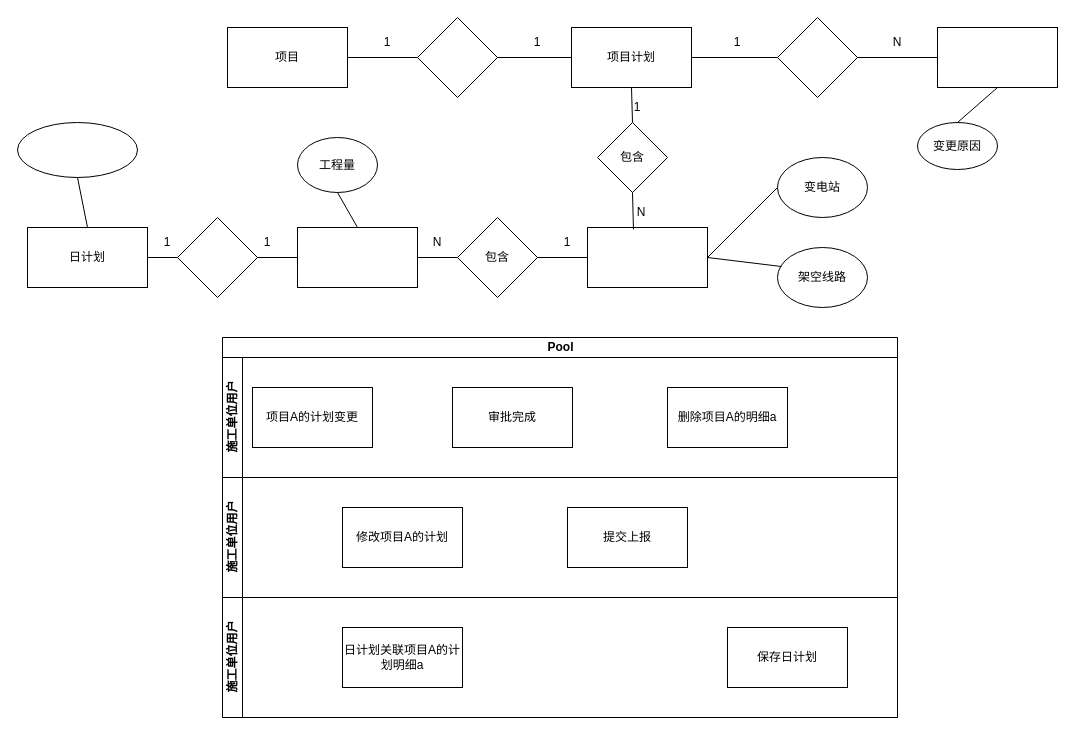
Image size: 1075x735. Some labels were removed from this diagram. The shapes that lost their labels are listed below. From the top down, each one's centre as x and y in pixels, then its label:
point 457,57: 建立
point 817,57: 发起
point 997,57: 项目计划变更
point 77,150: 状态(保存/提交/推送)
point 217,257: 关联
point 357,257: 项目计划明细
point 647,257: 项目计划科目
